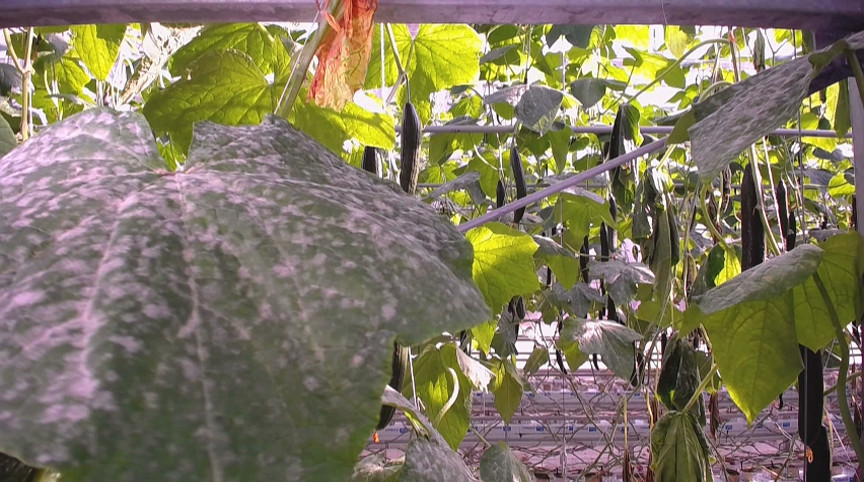cucumber: (377, 343, 409, 436), (796, 344, 823, 448), (740, 164, 766, 270), (401, 103, 421, 195), (510, 148, 527, 223), (775, 180, 789, 237), (361, 146, 383, 179)
